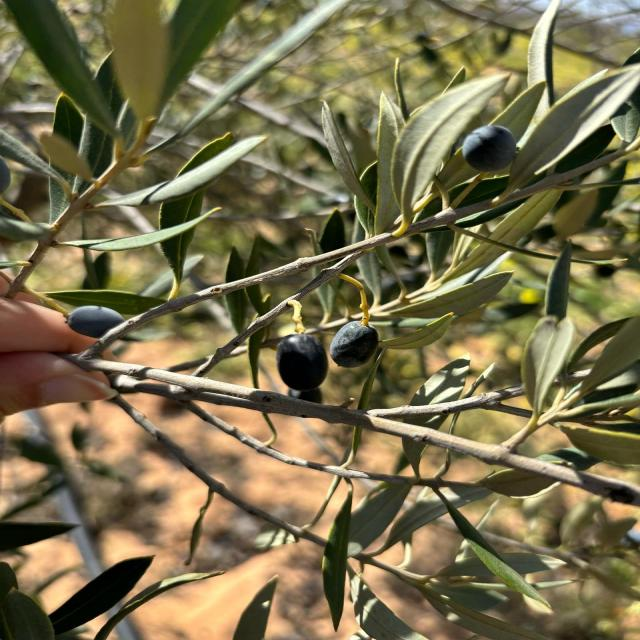Healthy: (377, 74, 507, 222), (435, 490, 549, 609), (59, 207, 221, 252), (322, 102, 375, 212), (389, 271, 512, 318), (277, 300, 328, 392), (330, 274, 379, 368), (322, 481, 352, 632), (46, 290, 165, 315), (379, 313, 455, 349), (461, 124, 517, 172), (67, 306, 123, 338)
